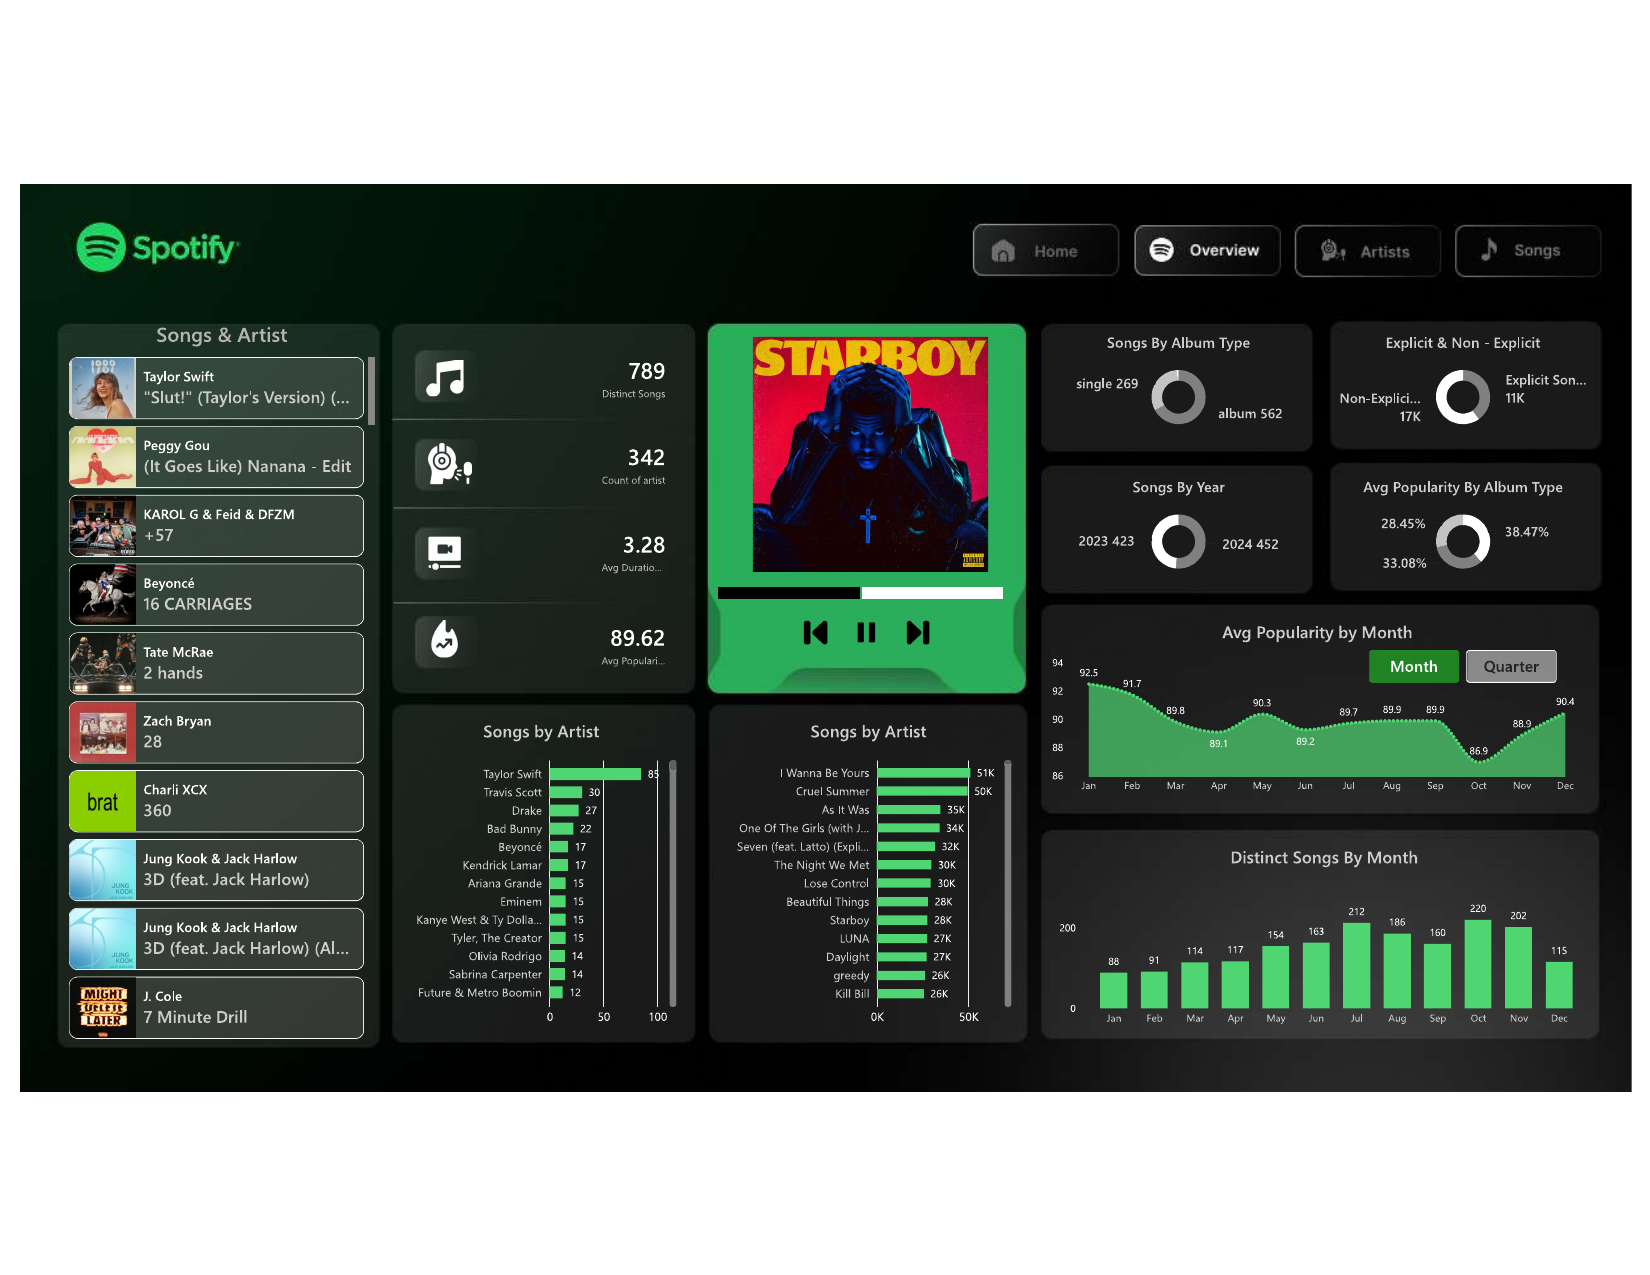

What the dashboard file says about the page in this screenshot:
{"tool":"powerbi","page":{"name":"Overiew","canvas":[1920,1080],"ordinal":1},"visuals":[{"type":"clusteredBarChart","title":"Songs by Artist","fields":{"Category":["Top-50-World.artist"],"Y":["_Measures.Distinct Songs"]},"box":[444.2,622.3,354.2,400.2],"z":0},{"type":"clusteredBarChart","title":"Songs by Artist","fields":{"Category":["Top-50-World.song"],"Y":["Sum(Top-50-World.popularity)"]},"box":[825.2,622.3,371.4,400.2],"z":1000},{"type":"areaChart","title":"Avg Popularity by Month ","fields":{"Category":["Top-50-World.Month"],"Y":["_Measures.Avg Popularity"]},"box":[1213.9,503.6,664.4,241.2],"z":2000},{"type":"advancedSlicerVisual","fields":{"Values":["Slicer_Option.Slicer_Option"]},"box":[1591.1,539.9,256.6,68.9],"z":3000},{"type":"donutChart","title":" Songs By Album Type","fields":{"Category":["Top-50-World.album_type"],"Y":["_Measures.Distinct Songs"]},"box":[1213.9,160.8,333.1,149.3],"z":4000},{"type":"donutChart","title":" Songs By Year","fields":{"Category":["Top-50-World.Year"],"Y":["_Measures.Distinct Songs"]},"box":[1213.9,333.1,333.1,149.3],"z":5000},{"type":"donutChart","title":"Avg Popularity By Album Type","fields":{"Category":["Top-50-World.album_type"],"Y":["_Measures.Avg Position"]},"box":[1552.8,333.1,333.1,149.3],"z":6000},{"type":"donutChart","title":"Explicit & Non - Explicit ","fields":{"Y":["_Measures.Explicit Songs","_Measures.Non-Explicit Songs"]},"box":[1552.8,160.8,333.1,149.3],"z":7000},{"type":"clusteredColumnChart","title":"Distinct Songs By Month","fields":{"Category":["Top-50-World.Month"],"Y":["_Measures.Distinct Songs"]},"box":[1221.5,771.6,664.4,250.8],"z":8000},{"type":"cardVisual","fields":{"Data":["Count(Top-50-World.artist)"]},"box":[660.6,289.1,140,90],"z":9000},{"type":"cardVisual","fields":{"Data":["_Measures.Avg Duration Minutes"]},"box":[660.6,392.5,140,90],"z":10000},{"type":"cardVisual","fields":{"Data":["_Measures.Avg Popularity"]},"box":[660.6,503.6,140,90],"z":11000},{"type":"cardVisual","fields":{"Data":["_Measures.Distinct Songs"]},"box":[660.6,185.7,140,90],"z":12000},{"type":"image","box":[486.8,517.6,50.7,45.2],"z":13000},{"type":"image","box":[461.5,416.2,88.7,45.2],"z":14000},{"type":"image","box":[470.5,305.8,81.4,52.5],"z":15000},{"type":"image","box":[472.3,208.1,67,43.4],"z":16000},{"type":"advancedSlicerVisual","title":"Songs & Artist","fields":{"Values":["Top-50-World.song"]},"box":[57.6,160.5,365.6,859.6],"z":17000},{"type":"cardVisual","fields":{"Data":["Min(Top-50-World.album_cover_url)"]},"box":[799.9,181,425.3,280.5],"z":18000},{"type":"hundredPercentStackedBarChart","fields":{"Y":["_Measures.Avg Popularity","Avg(Top-50-World.popularity)"]},"box":[816.2,432.5,371,101.3],"z":19000},{"type":"image","box":[928.4,517.6,39.8,30.8],"z":20000},{"type":"image","box":[1049.6,517.6,39.8,30.8],"z":21000},{"type":"image","box":[982.6,513.9,52.5,38],"z":22000},{"type":"shape","box":[816.2,161.1,380,447],"z":23000},{"type":"actionButton","box":[1707,45.5,172.3,63.4],"z":24000},{"type":"actionButton","box":[1514.9,45.5,172.3,63.4],"z":25000},{"type":"actionButton","box":[1322.8,45.5,172.3,63.4],"z":26000},{"type":"actionButton","box":[1132.7,45.5,172.3,63.4],"z":27000}]}

Visuals, with their boxes on the page's 1920x1080 design canvas (x1, y1, x2, y2). These are canvas units, not pixel positions in the 1650x1275 screenshot, which may show the page scaled, cropped or inside an application window:
"Songs by Artist" clusteredBarChart: [x1=444, y1=622, x2=798, y2=1022]
"Songs by Artist" clusteredBarChart: [x1=825, y1=622, x2=1197, y2=1022]
"Avg Popularity by Month " areaChart: [x1=1214, y1=504, x2=1878, y2=745]
advancedSlicerVisual - Slicer_Option.Slicer_Option: [x1=1591, y1=540, x2=1848, y2=609]
" Songs By Album Type" donutChart: [x1=1214, y1=161, x2=1547, y2=310]
" Songs By Year" donutChart: [x1=1214, y1=333, x2=1547, y2=482]
"Avg Popularity By Album Type" donutChart: [x1=1553, y1=333, x2=1886, y2=482]
"Explicit & Non - Explicit " donutChart: [x1=1553, y1=161, x2=1886, y2=310]
"Distinct Songs By Month" clusteredColumnChart: [x1=1222, y1=772, x2=1886, y2=1022]
cardVisual - Count(Top-50-World.artist): [x1=661, y1=289, x2=801, y2=379]
cardVisual - _Measures.Avg Duration Minutes: [x1=661, y1=392, x2=801, y2=482]
cardVisual - _Measures.Avg Popularity: [x1=661, y1=504, x2=801, y2=594]
cardVisual - _Measures.Distinct Songs: [x1=661, y1=186, x2=801, y2=276]
image: [x1=487, y1=518, x2=538, y2=563]
image: [x1=462, y1=416, x2=550, y2=461]
image: [x1=470, y1=306, x2=552, y2=358]
image: [x1=472, y1=208, x2=539, y2=252]
"Songs & Artist" advancedSlicerVisual: [x1=58, y1=160, x2=423, y2=1020]
cardVisual - Min(Top-50-World.album_cover_url): [x1=800, y1=181, x2=1225, y2=462]
hundredPercentStackedBarChart - _Measures.Avg Popularity x Avg(Top-50-World.popularity): [x1=816, y1=432, x2=1187, y2=534]
image: [x1=928, y1=518, x2=968, y2=548]
image: [x1=1050, y1=518, x2=1089, y2=548]
image: [x1=983, y1=514, x2=1035, y2=552]
shape: [x1=816, y1=161, x2=1196, y2=608]
actionButton: [x1=1707, y1=46, x2=1879, y2=109]
actionButton: [x1=1515, y1=46, x2=1687, y2=109]
actionButton: [x1=1323, y1=46, x2=1495, y2=109]
actionButton: [x1=1133, y1=46, x2=1305, y2=109]
